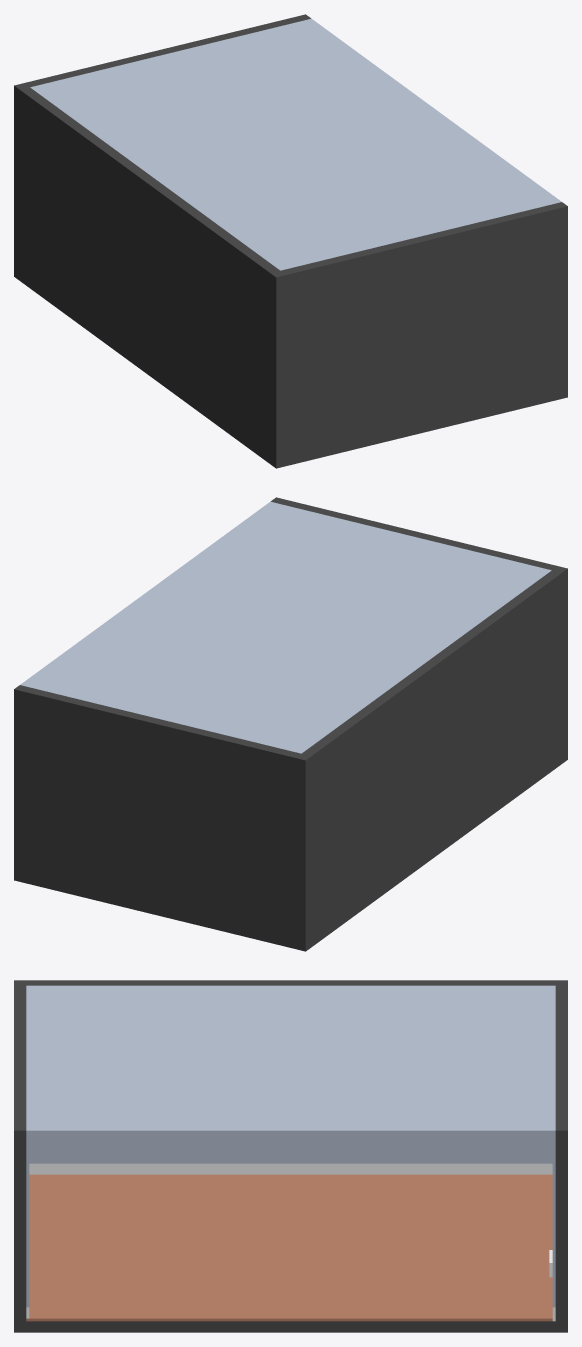
Rendered from Room v2-0-Room.obj.
3 views of the same model, one above another, from view 1: azimuth 30°, elevation 25°; view 2: azimuth 150°, elevation 25°; view 3: azimuth 270°, elevation 25° (orthographic). The views are drawn at different scales.
Parts seen in each view (by area): view 1: Room; view 2: Room; view 3: Room.
Boxes of the visible parts, x1,y1,x2,y2 form: Room: (14,14,567,468); Room: (14,497,567,951); Room: (14,980,567,1332).
Size of the model in its own units: 11.5 by 7.2 by 17.9.
1 material, 1 textured.
